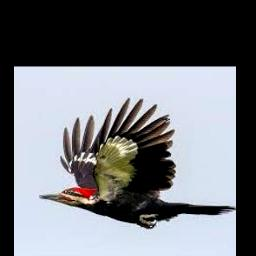Woodpecker: (37, 97, 235, 229)
